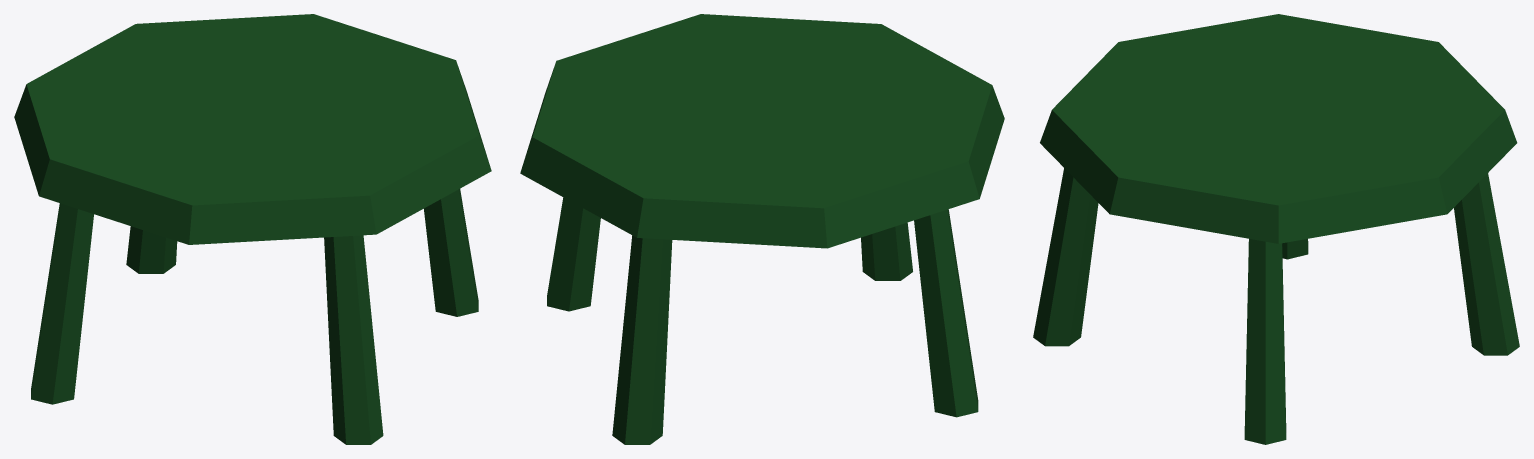
File: tafel.fbx
3 renders of one model, left to right at view 1: azimuth 30°, elevation 25°; view 2: azimuth 150°, elevation 25°; view 3: azimuth 270°, elevation 25°, orthographic. The views are drawn at different scales.
Visible parts, largest first — view 1: Tafel; view 2: Tafel; view 3: Tafel.
Boxes of the visible parts, <box> form: Tafel: <box>14,14,491,444</box>; Tafel: <box>520,14,1004,444</box>; Tafel: <box>1033,14,1519,444</box>.
Bounding box in the file's own units: 91.31 × 48 × 91.31.
